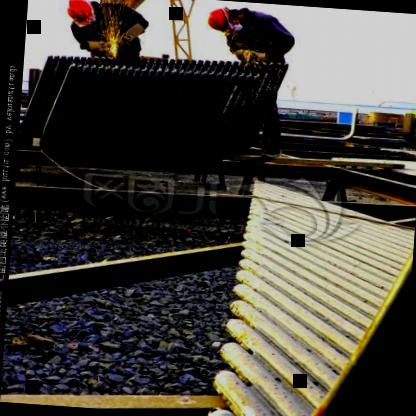helmet: (207, 5, 252, 38), (63, 0, 97, 33)
